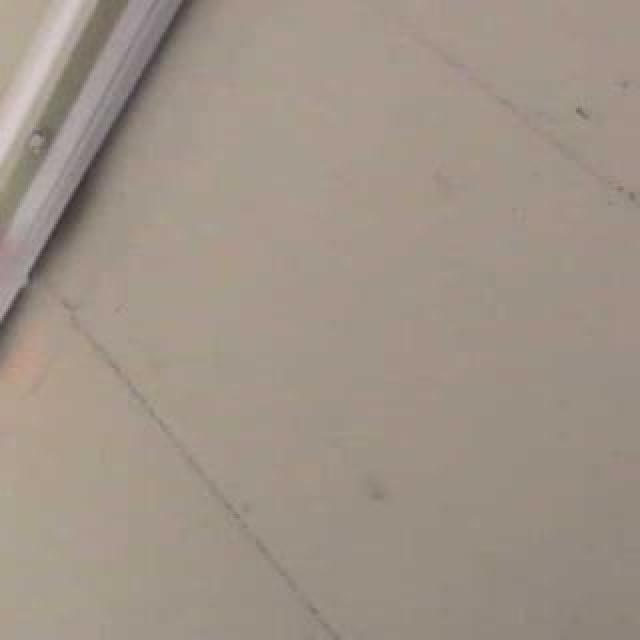fluorescent tube: (0, 0, 500, 390)
